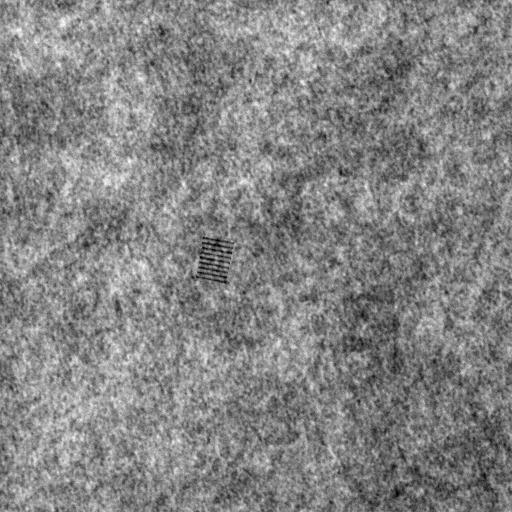DefectTypeB: (198, 235, 231, 285)
